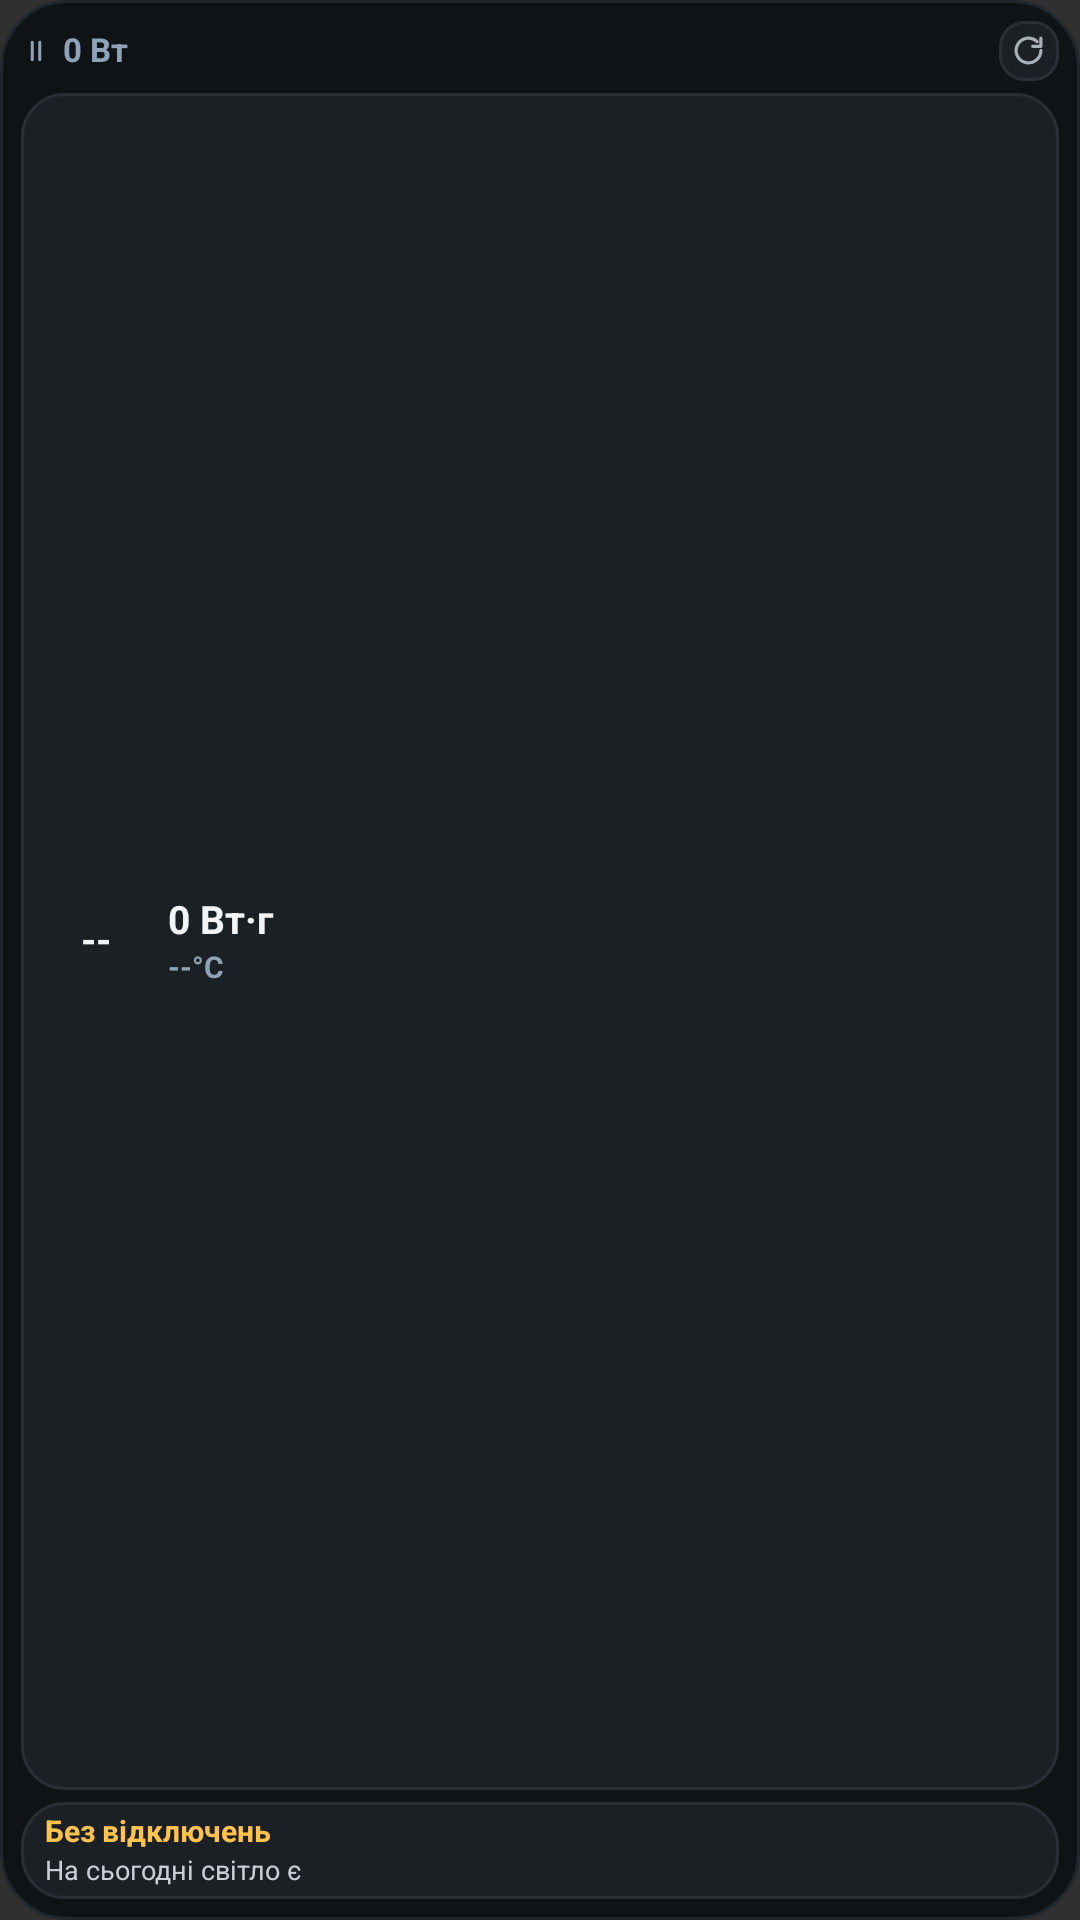

Screen size 1080*1920. Icon name, then its center in pixels as (x=x, y=y):
refresh: (x=1028, y=50)
